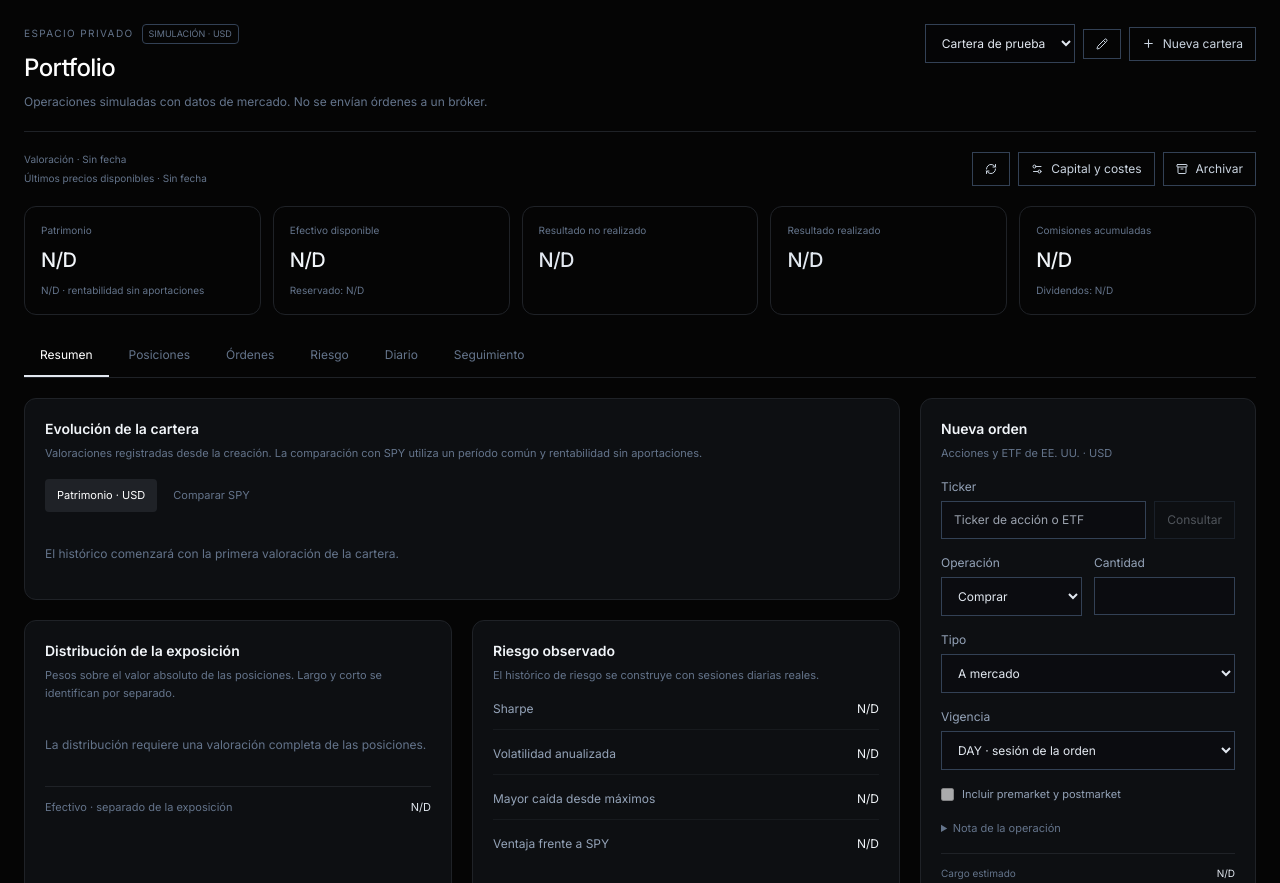
it: limits extended hours to limit and stop-limit orders and clears it when the type changes
Expected: the heading "Nueva orden" is shown, [941,420,1027,437]
Expected: the checkbox named "Operar en horario ampliado" is disabled, [941,788,954,801]
Select "Limitada" in the dropdown named "Tipo de orden" at (1088, 674), box [941,654,1235,693]
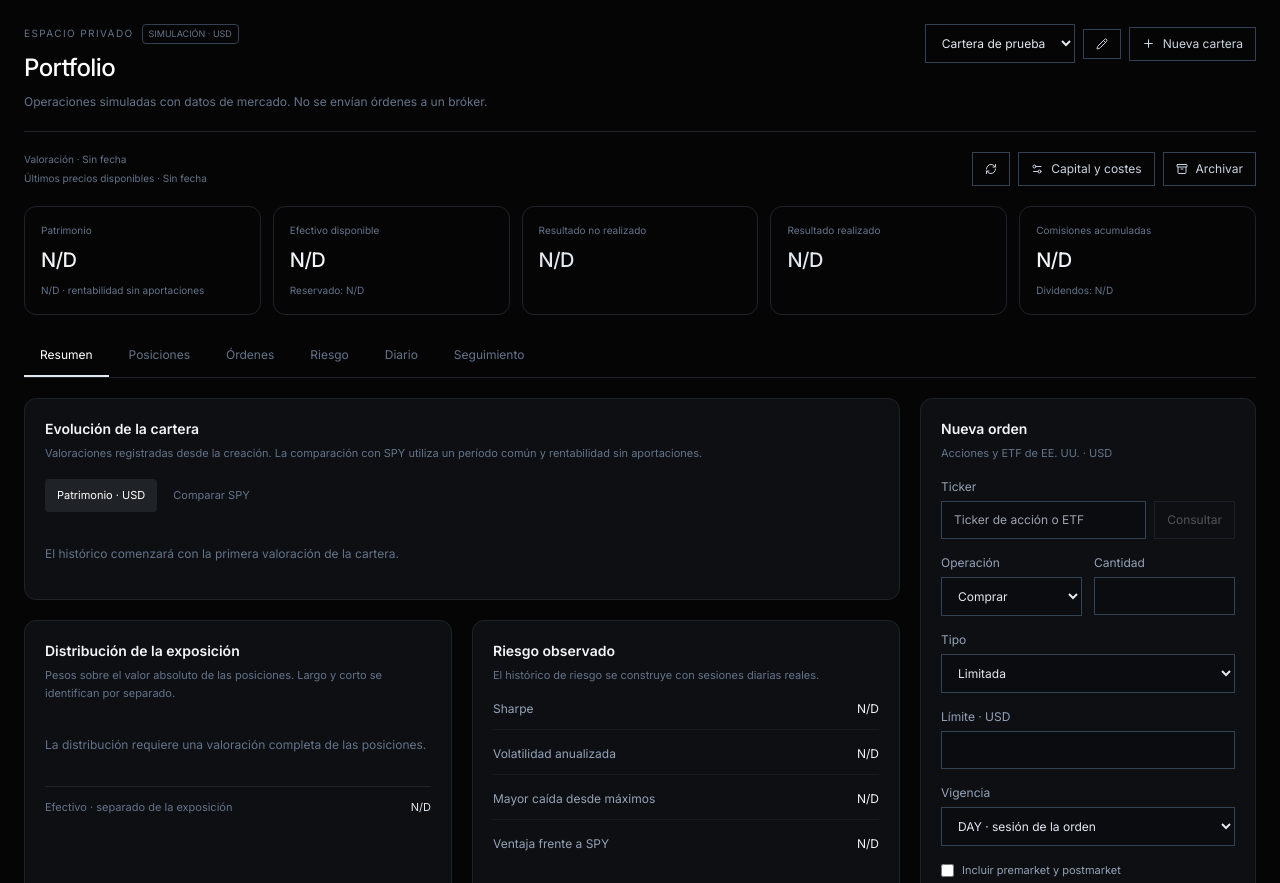
Expected: the checkbox named "Operar en horario ampliado" is enabled
Click the checkbox named "Operar en horario ampliado" at (948, 871), box [941,864,954,877]
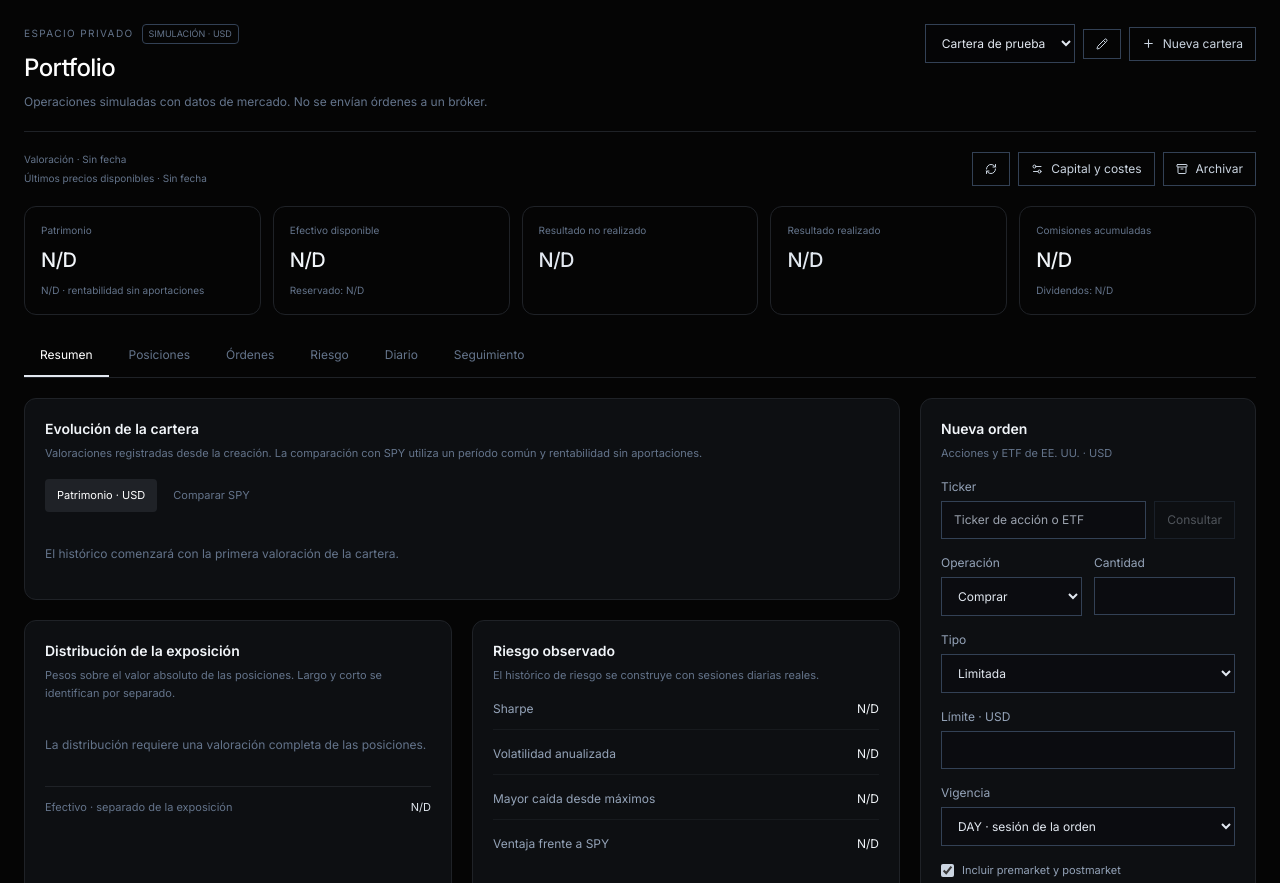
Expected: the checkbox named "Operar en horario ampliado" is checked, [941,864,954,877]
Select "Stop" in the dropdown named "Tipo de orden" at (1088, 674), box [941,654,1235,693]
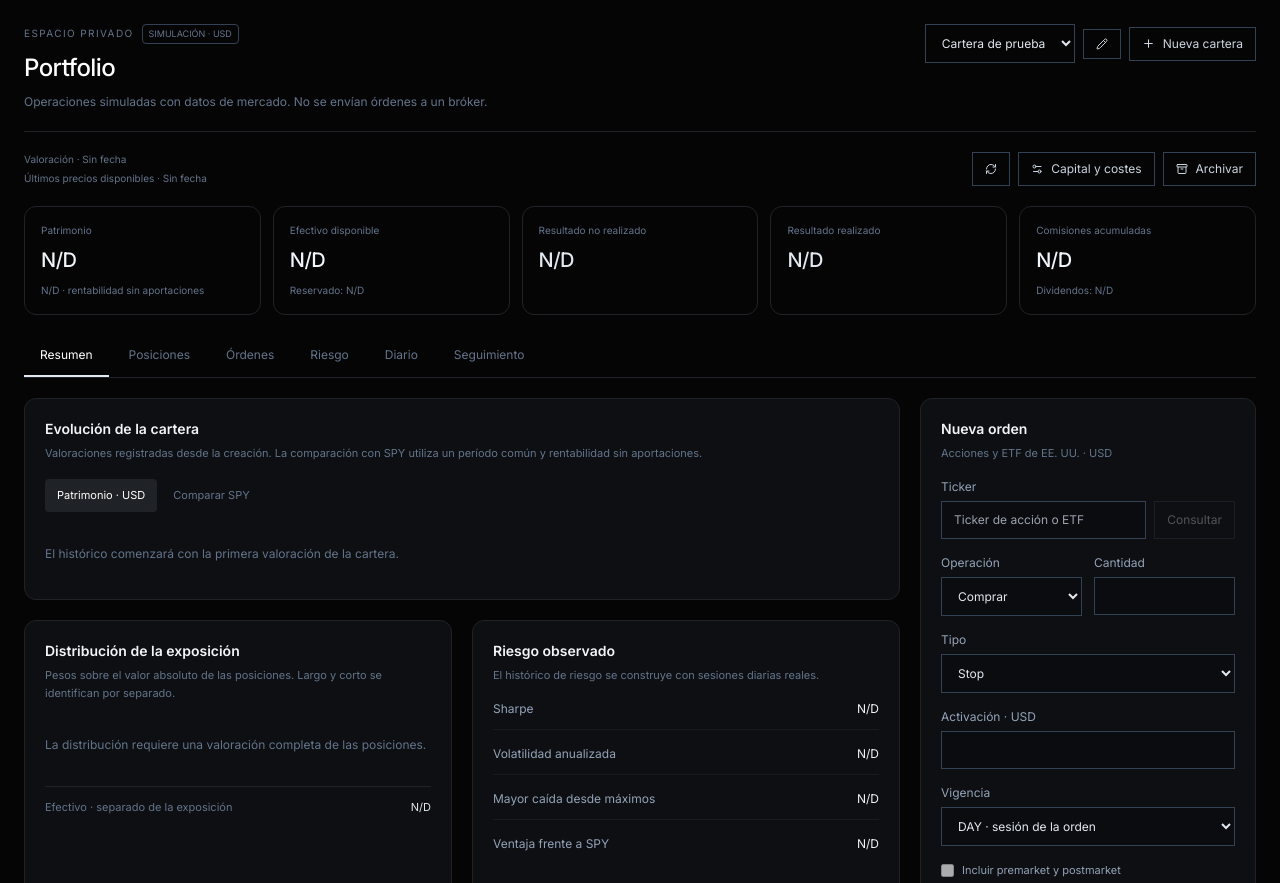
Expected: the number field named "Precio de activación USD" is shown, [941,731,1235,769]
Expected: the checkbox named "Operar en horario ampliado" is not checked, [941,864,954,877]
Expected: the checkbox named "Operar en horario ampliado" is disabled, [941,864,954,877]
Select "Stop limitada" in the dropdown named "Tipo de orden" at (1088, 674), box [941,654,1235,693]
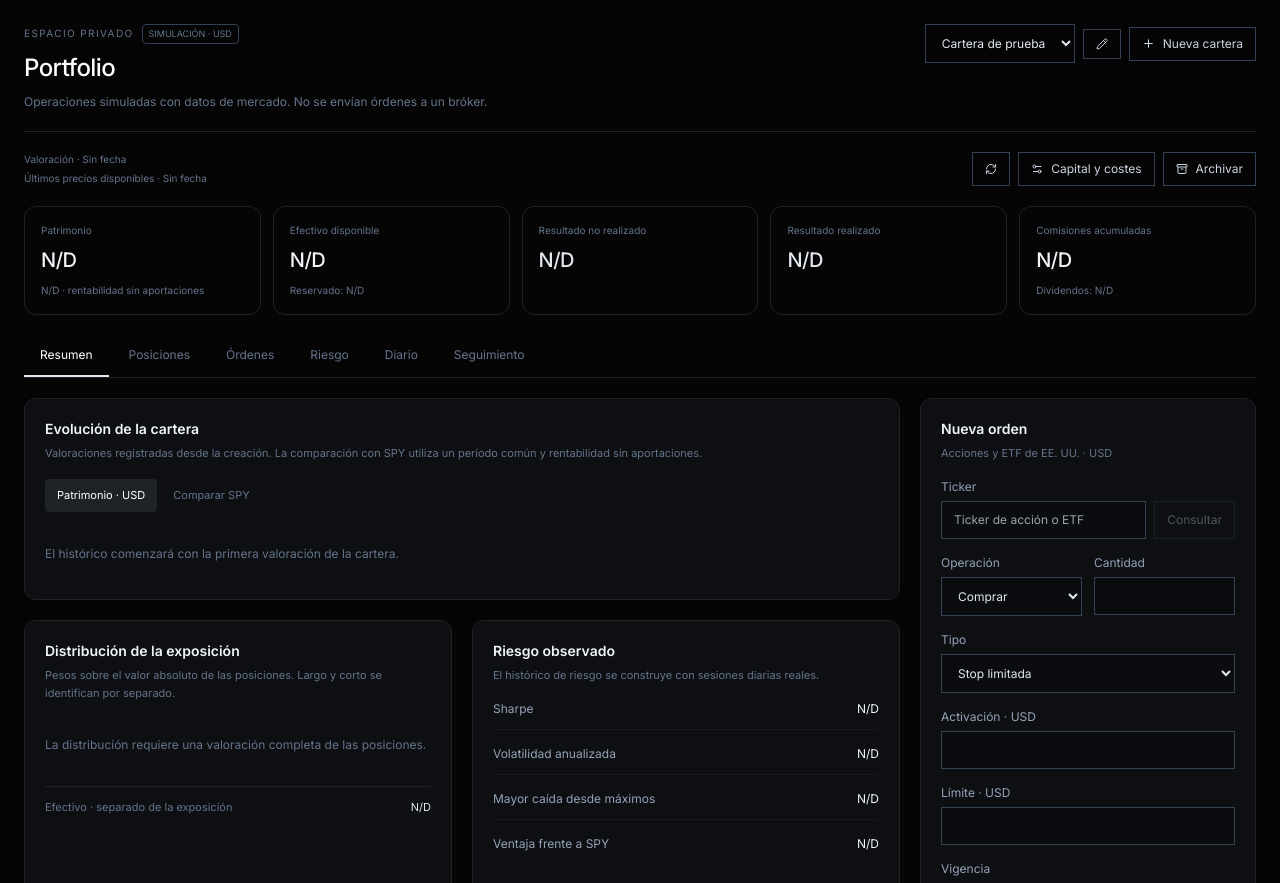
Expected: the number field named "Precio límite USD" is shown, [941,807,1235,845]
